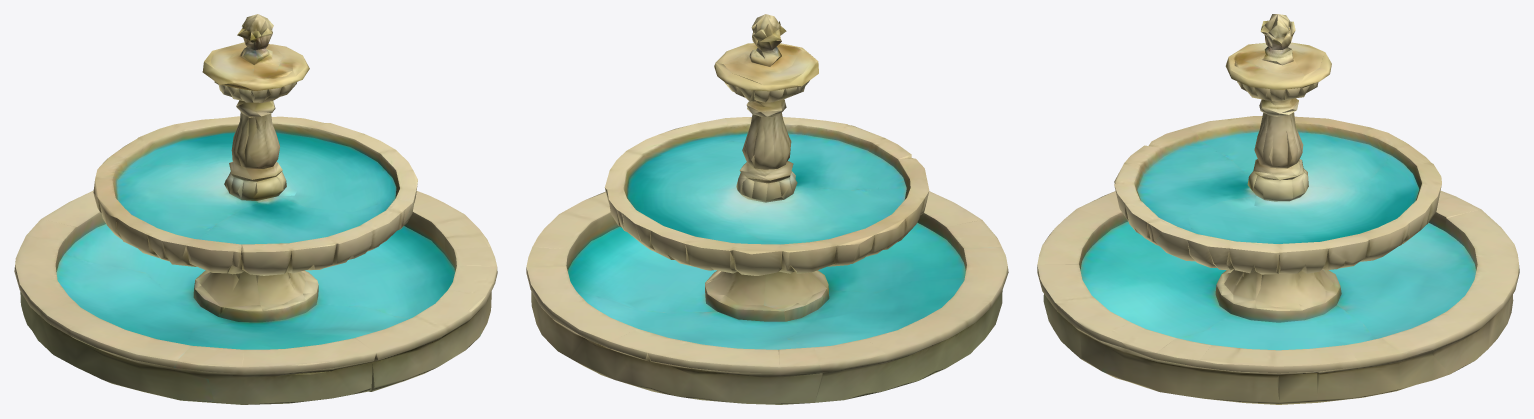
The model's file is parkFountain.glb.
3 views of the same model, side by side, from view 1: azimuth 30°, elevation 25°; view 2: azimuth 150°, elevation 25°; view 3: azimuth 270°, elevation 25° (orthographic).
Visible parts, largest first — view 1: model; view 2: model; view 3: model.
Part boxes in pixels (x1,y1,x2,y2): model: [14, 14, 497, 404]; model: [526, 14, 1008, 404]; model: [1037, 14, 1519, 404].
Bounding box in the file's own units: 1.9 × 1.28 × 1.9.
1 material, 1 textured.
